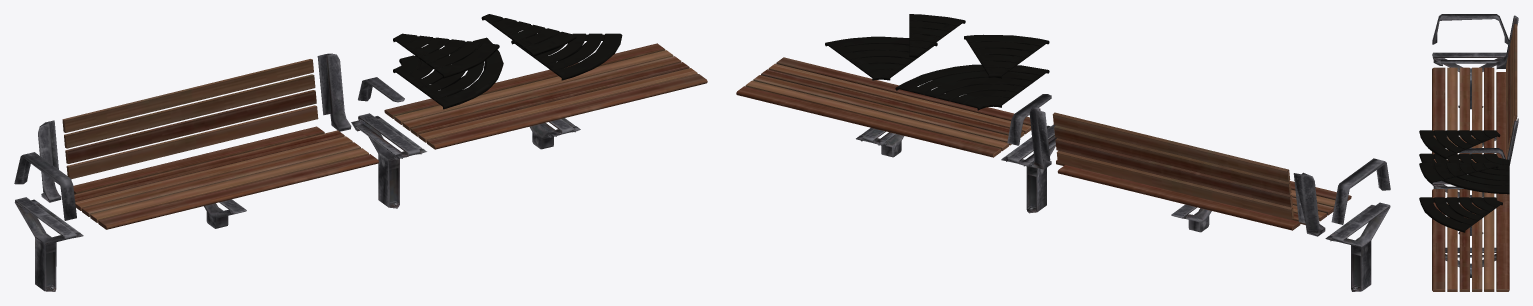
Rendered from modular_street_seating_c.glb.
3 views of the same model, side by side, from view 1: azimuth 30°, elevation 25°; view 2: azimuth 150°, elevation 25°; view 3: azimuth 270°, elevation 25° (orthographic). The views are drawn at different scales.
Parts seen in each view (by area): view 1: modular_street_seating (×4); view 2: modular_street_seating (×4); view 3: modular_street_seating (×4).
Part boxes in pixels (left/top/right/bottom): modular_street_seating (×4): left=14, top=14, right=707, bottom=291; modular_street_seating (×4): left=736, top=14, right=1390, bottom=291; modular_street_seating (×4): left=1419, top=14, right=1518, bottom=291.
Bounding box in the file's own units: 4.34 × 0.95 × 0.7704.
Materials: 4 (4 with a texture image).
